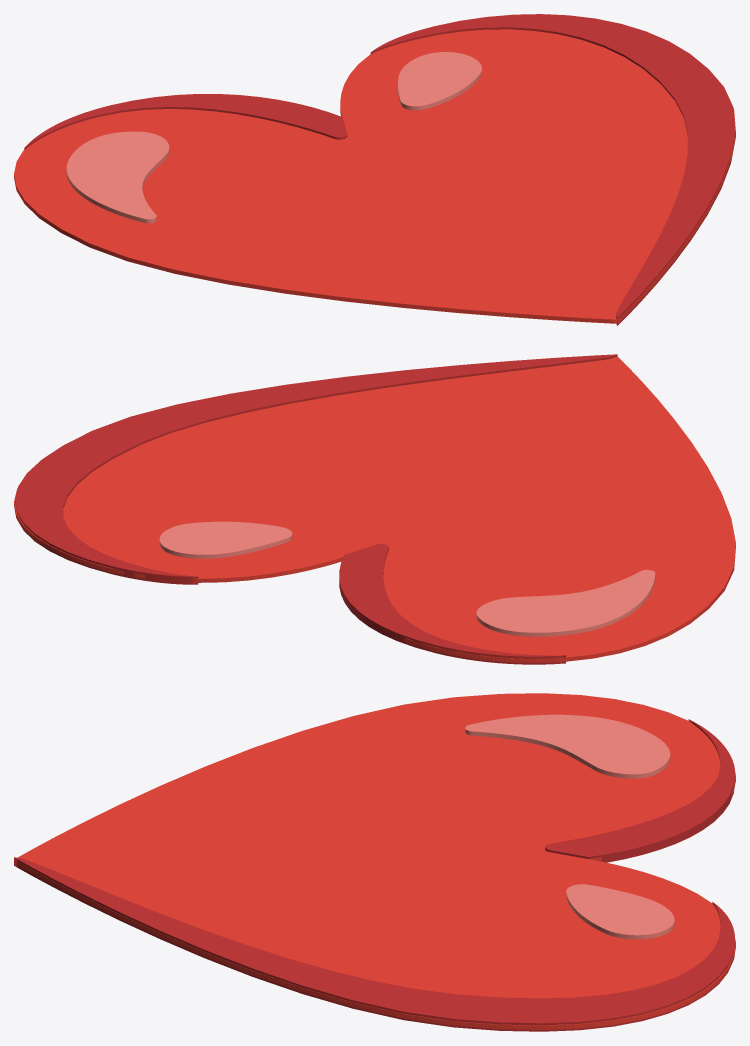
Rendered from emoji_u2764.glb.
3 views of the same model, one above another, from view 1: azimuth 30°, elevation 25°; view 2: azimuth 150°, elevation 25°; view 3: azimuth 270°, elevation 25° (orthographic). The views are drawn at different scales.
Visible parts, largest first — view 1: emoji_u2764; view 2: emoji_u2764; view 3: emoji_u2764.
Boxes of the visible parts, <box> form: emoji_u2764: <box>14,14,735,325</box>; emoji_u2764: <box>14,354,735,664</box>; emoji_u2764: <box>14,693,735,1031</box>.
Size of the model in its own units: 0.0339 by 0.0006 by 0.0311.
